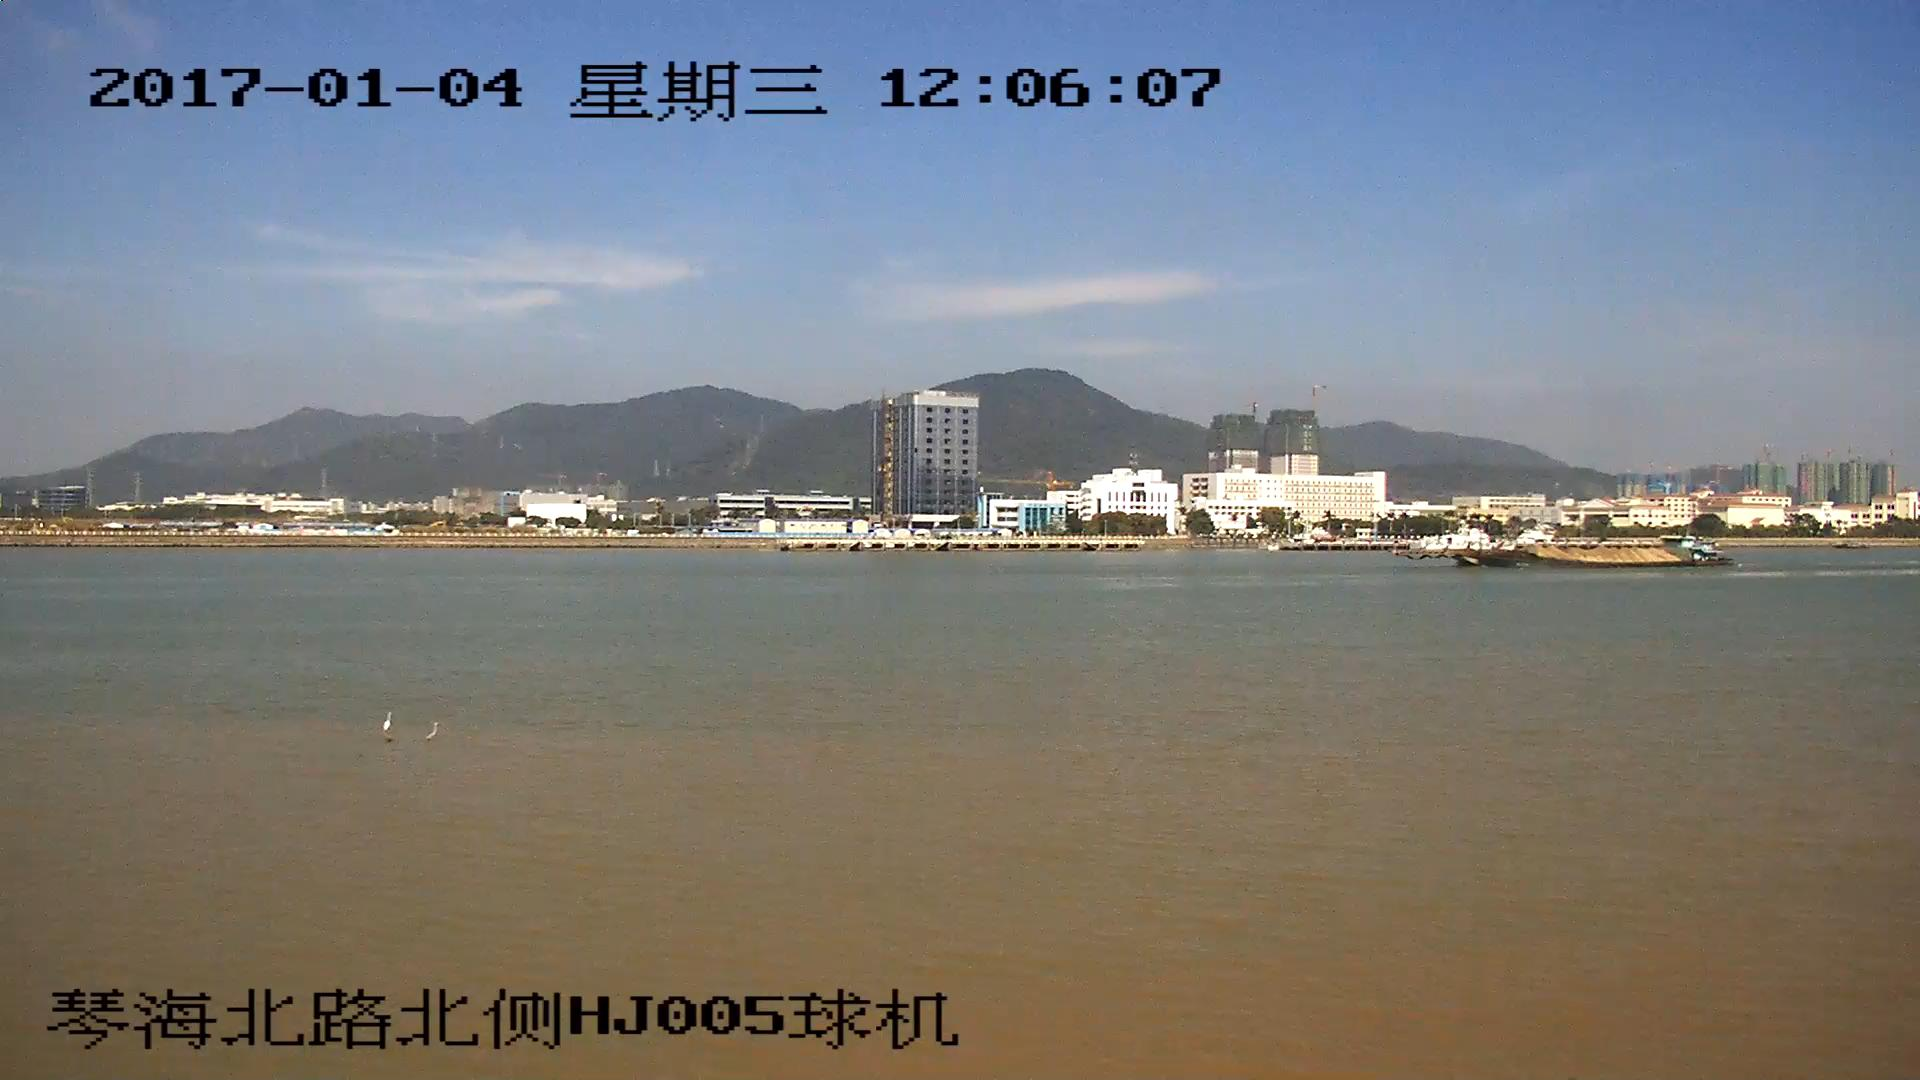ore carrier: (1382, 531, 1732, 571)
